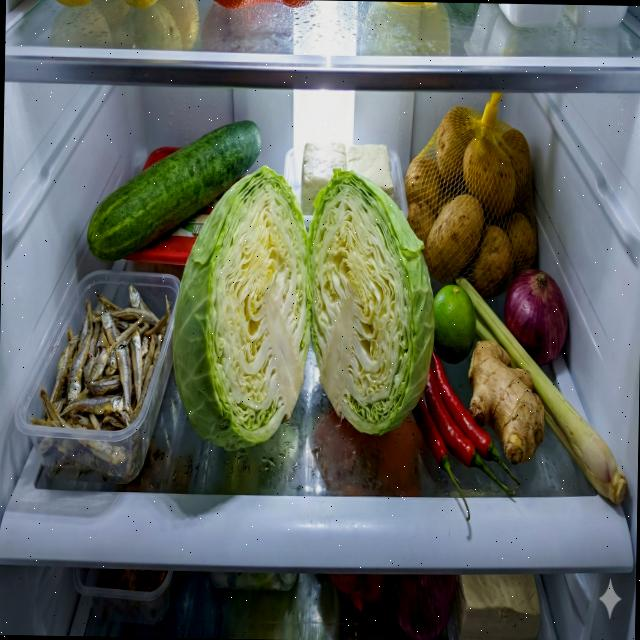anchovies: (29, 282, 172, 484)
cabbage: (171, 163, 309, 454), (304, 168, 438, 436)
chili: (408, 346, 522, 522)
cucumber: (86, 115, 262, 267)
ginger: (466, 340, 547, 466)
lemongrass: (452, 278, 632, 506)
lime: (432, 284, 478, 366)
onion: (502, 266, 568, 366)
potato: (402, 104, 540, 302)
tofu: (300, 140, 394, 217)
